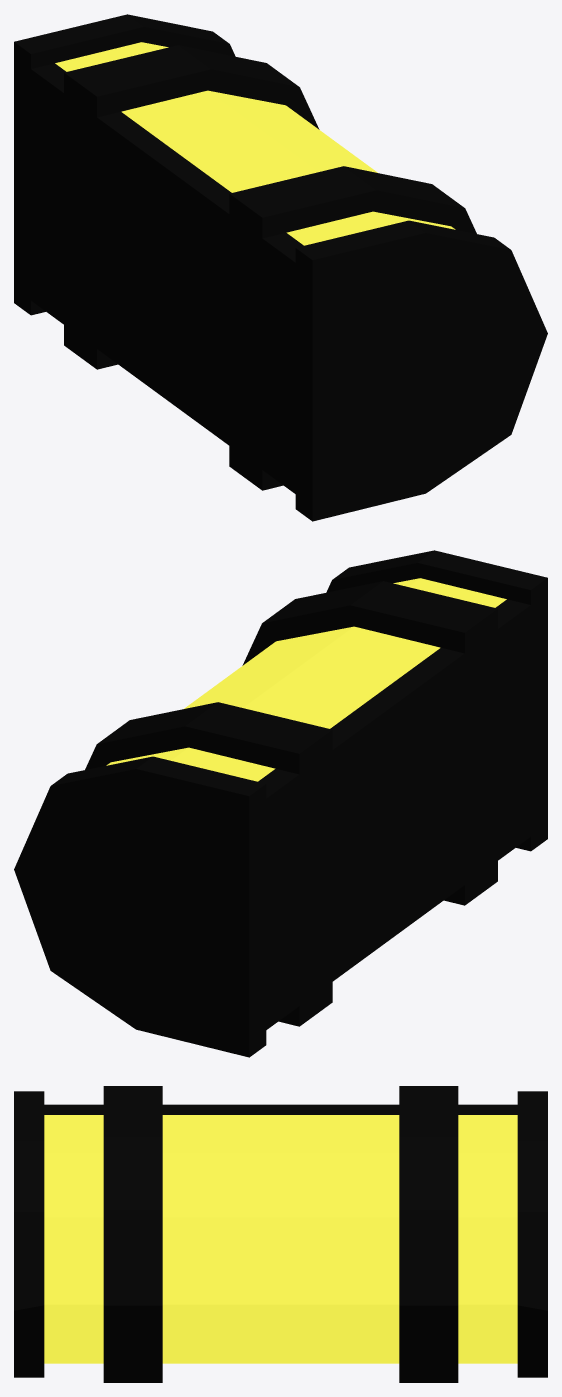
The model's file is Luces.glb.
3 views of the same model, one above another, from view 1: azimuth 30°, elevation 25°; view 2: azimuth 150°, elevation 25°; view 3: azimuth 270°, elevation 25° (orthographic). The views are drawn at different scales.
Parts seen in each view (by area): view 1: Cube; view 2: Cube; view 3: Cube.
Part boxes in pixels (<box>): Cube: <box>14,14,547,521</box>; Cube: <box>14,550,547,1057</box>; Cube: <box>14,1086,547,1382</box>.
Size of the model in its own units: 1.91 by 2.07 by 4.11.
